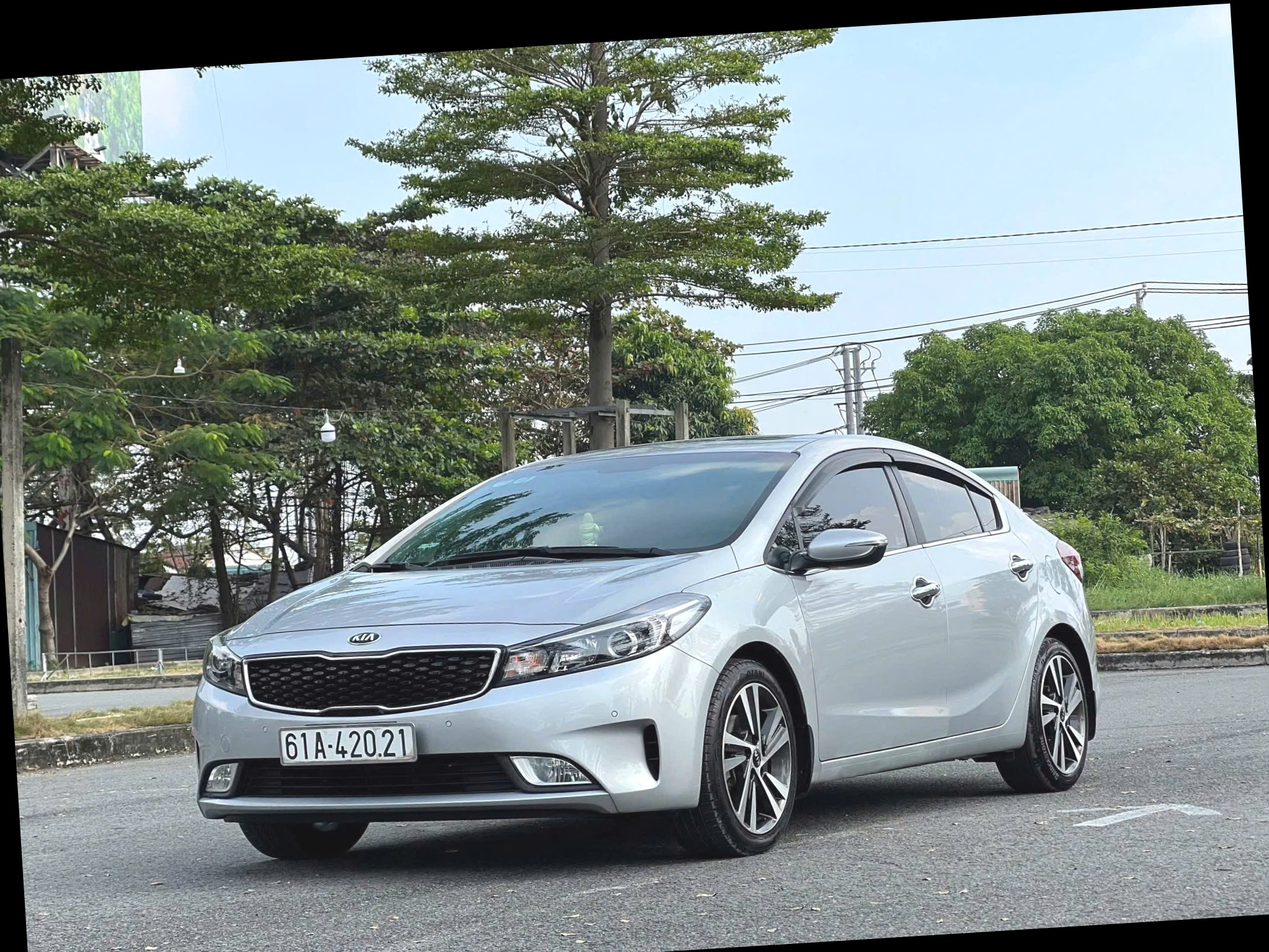Bien-so: (308, 685, 448, 735)
